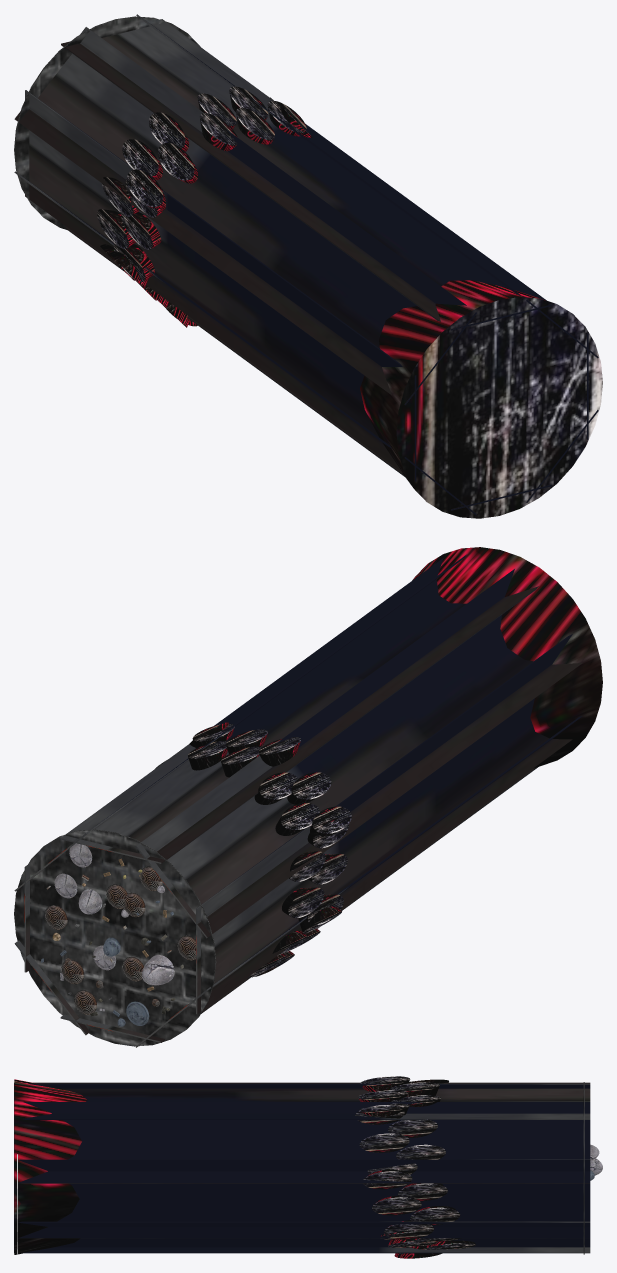
The model's file is chainofjudgement.glb.
3 views of the same model, one above another, from view 1: azimuth 30°, elevation 25°; view 2: azimuth 150°, elevation 25°; view 3: azimuth 270°, elevation 25° (orthographic). The views are drawn at different scales.
Parts seen in each view (by area): view 1: Cone, Cube.007, Cube.003, Cube, Cylinder, Cube.005, Cube.004, Cube.001, Cone.034, Cone.032, Cone.033, Cone.035 (+9 smaller); view 2: Cube.007, Cube.003, Cube, Cylinder, Cone, Cube.005, Cube.001, Cube.004, Cone.033, Cone.034, Cone.013, Cone.035 (+9 smaller); view 3: Cube.005, Cube.002, Cube, Cube.006, Cone, Cube.001, Cube.007, Cone.024, Cone.019, Cone.020, Cone.023, Cone.021 (+13 smaller).
Boxes of the visible parts, left/top/right/bottom form: Cone: left=360, top=280, right=602, bottom=518; Cube.007: left=14, top=27, right=476, bottom=405; Cube.003: left=25, top=90, right=416, bottom=481; Cube: left=61, top=19, right=552, bottom=330; Cylinder: left=14, top=16, right=200, bottom=229; Cube.005: left=136, top=14, right=598, bottom=358; Cube.004: left=14, top=171, right=476, bottom=515; Cube.001: left=65, top=227, right=552, bottom=510; Cone.034: left=158, top=143, right=197, bottom=183; Cone.032: left=127, top=169, right=165, bottom=209; Cone.033: left=122, top=139, right=162, bottom=180; Cone.035: left=149, top=112, right=188, bottom=151; Cube.007: left=135, top=569, right=582, bottom=938; Cube.003: left=196, top=634, right=572, bottom=1014; Cube: left=60, top=558, right=538, bottom=863; Cylinder: left=14, top=829, right=216, bottom=1046; Cone: left=412, top=547, right=602, bottom=768; Cube.005: left=14, top=554, right=466, bottom=891; Cube.001: left=60, top=767, right=537, bottom=1042; Cube.004: left=135, top=716, right=582, bottom=1047; Cone.033: left=275, top=803, right=319, bottom=835; Cone.034: left=287, top=772, right=331, bottom=804; Cone.013: left=282, top=887, right=324, bottom=918; Cone.035: left=254, top=772, right=297, bottom=804; Cube.005: left=14, top=1102, right=590, bottom=1183; Cube.002: left=14, top=1159, right=590, bottom=1238; Cube: left=14, top=1082, right=590, bottom=1119; Cube.006: left=14, top=1221, right=590, bottom=1247; Cone: left=14, top=1079, right=87, bottom=1254; Cube.001: left=14, top=1247, right=590, bottom=1253; Cube.007: left=14, top=1083, right=590, bottom=1088; Cone.024: left=359, top=1133, right=409, bottom=1152; Cone.019: left=371, top=1195, right=421, bottom=1215; Cone.020: left=398, top=1183, right=447, bottom=1201; Cone.023: left=388, top=1119, right=437, bottom=1137; Cone.021: left=363, top=1169, right=412, bottom=1189.
Size of the model in its own units: 308 by 306 by 1022.
Materials: 13 (13 with a texture image).
